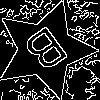B: (20, 25, 77, 81)
